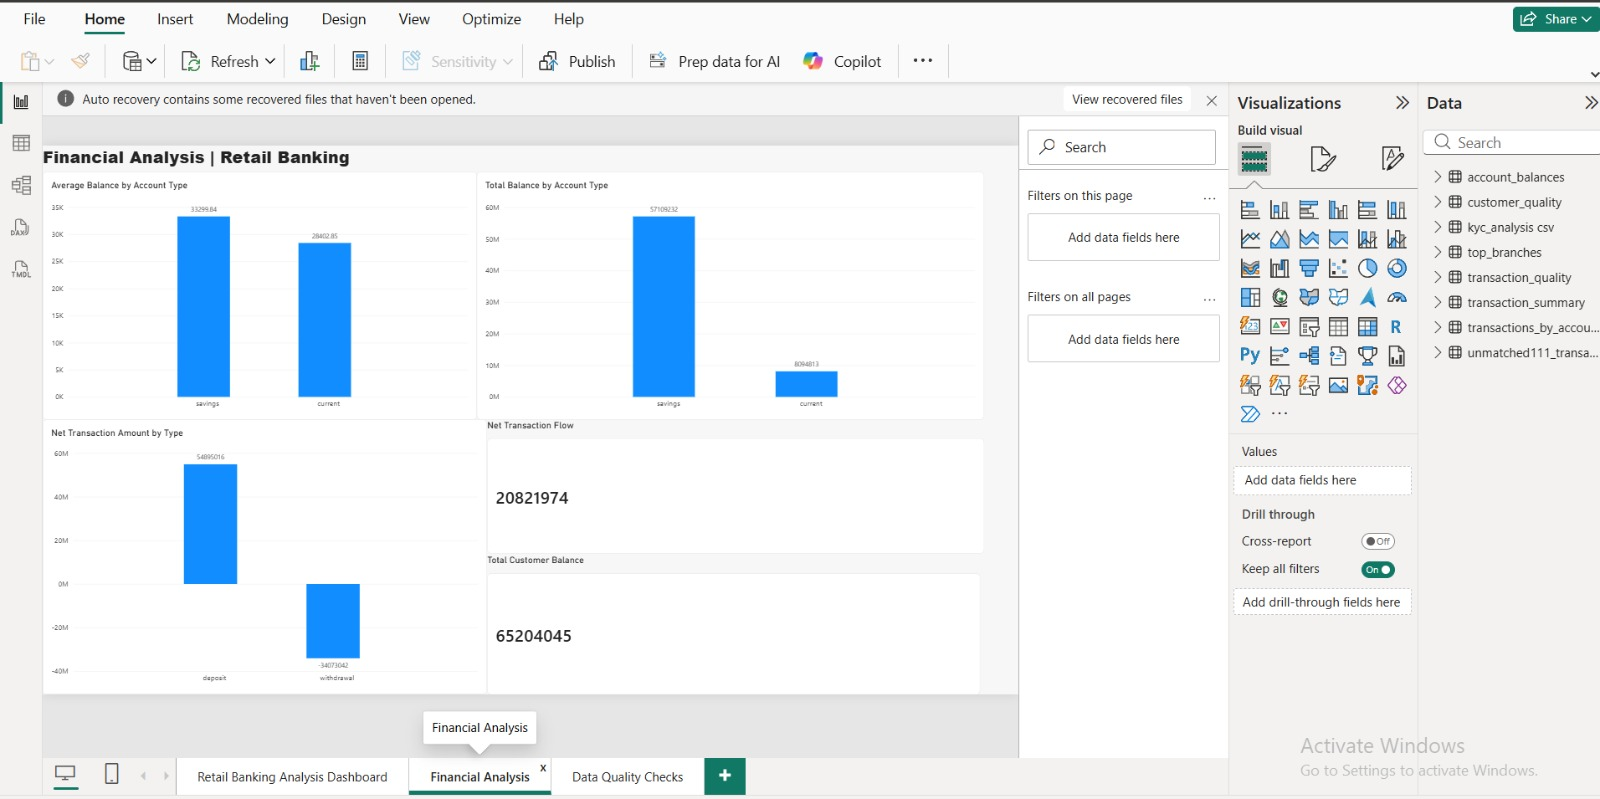

The dashboard page shown, as its layout file describes it:
{"tool":"powerbi","page":{"name":"Financial Analysis","canvas":[1920,1080],"ordinal":1},"visuals":[{"type":"clusteredColumnChart","title":"Average Balance by Account Type","fields":{"Category":["account_balances.account_type"],"Y":["Sum(account_balances.average_balance)"]},"box":[0,52,854,488],"z":0},{"type":"clusteredColumnChart","title":"Total Balance by Account Type","fields":{"Category":["account_balances.account_type"],"Y":["Sum(account_balances.total_balance)"]},"box":[854,52,998,488],"z":1},{"type":"clusteredColumnChart","title":"Net Transaction Amount by Type","fields":{"Category":["transaction_summary.transaction_type"],"Y":["Sum(transaction_summary.net_amount)"]},"box":[0,540,874,540],"z":2},{"type":"cardVisual","title":"Net Transaction Flow","fields":{"Data":["Sum(transaction_summary.net_amount)"]},"box":[874,540,978,264],"z":3},{"type":"cardVisual","title":"Total Customer Balance","fields":{"Data":["Sum(account_balances.total_balance)"]},"box":[874,804,970,276],"z":4},{"type":"textbox","box":[0,0,1852,52],"z":5}]}

Visuals, with their boxes on the page's 1920x1080 design canvas (x1, y1, x2, y2). These are canvas units, not pixel positions in the 1600x799 screenshot, which may show the page scaled, cropped or inside an application window:
"Average Balance by Account Type" clusteredColumnChart: <bbox>0, 52, 854, 540</bbox>
"Total Balance by Account Type" clusteredColumnChart: <bbox>854, 52, 1852, 540</bbox>
"Net Transaction Amount by Type" clusteredColumnChart: <bbox>0, 540, 874, 1080</bbox>
"Net Transaction Flow" cardVisual: <bbox>874, 540, 1852, 804</bbox>
"Total Customer Balance" cardVisual: <bbox>874, 804, 1844, 1080</bbox>
textbox: <bbox>0, 0, 1852, 52</bbox>
